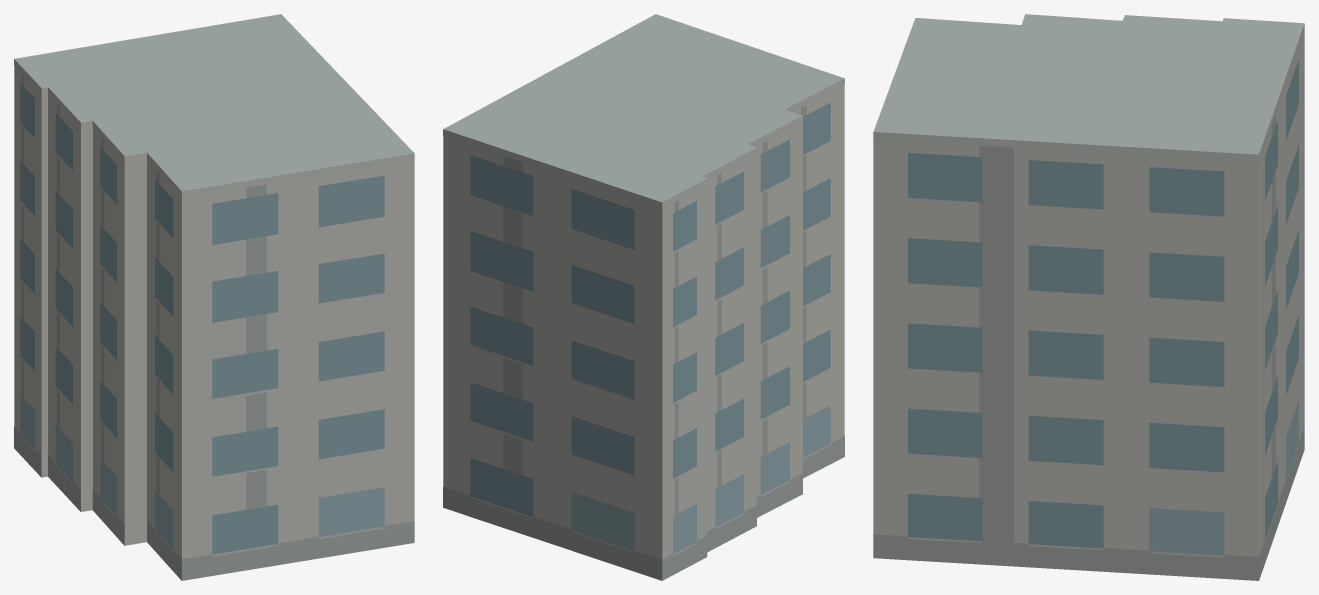
The model's file is survey-upis-32729349.glb.
3 views of the same model, side by side, from view 1: azimuth 30°, elevation 25°; view 2: azimuth 150°, elevation 25°; view 3: azimuth 270°, elevation 25° (orthographic). The views are drawn at different scales.
Visible parts, largest first — view 1: survey-upis-32729349.tmp; view 2: survey-upis-32729349.tmp; view 3: survey-upis-32729349.tmp.
Part boxes in pixels (x1,y1,x2,y2): survey-upis-32729349.tmp: [14, 14, 414, 580]; survey-upis-32729349.tmp: [443, 14, 844, 580]; survey-upis-32729349.tmp: [873, 14, 1304, 580].
Bounding box in the file's own units: 9.92 × 14 × 12.85.
